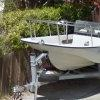Boat: (18, 21, 100, 76)
